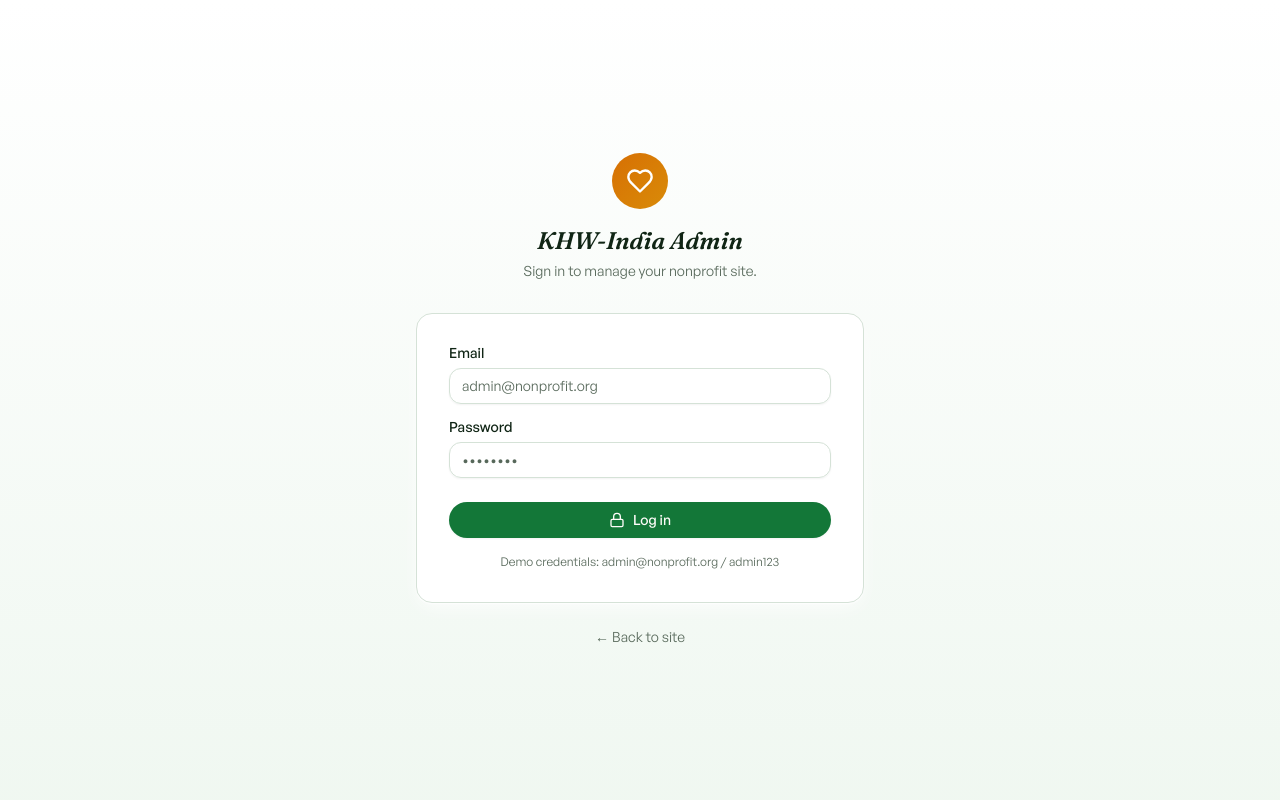
it: Admin authentication › rejects invalid credentials with an error
Type "wrong@example.com" into the field with test id "admin.login_email" at (640, 386), box [449,368,831,404]
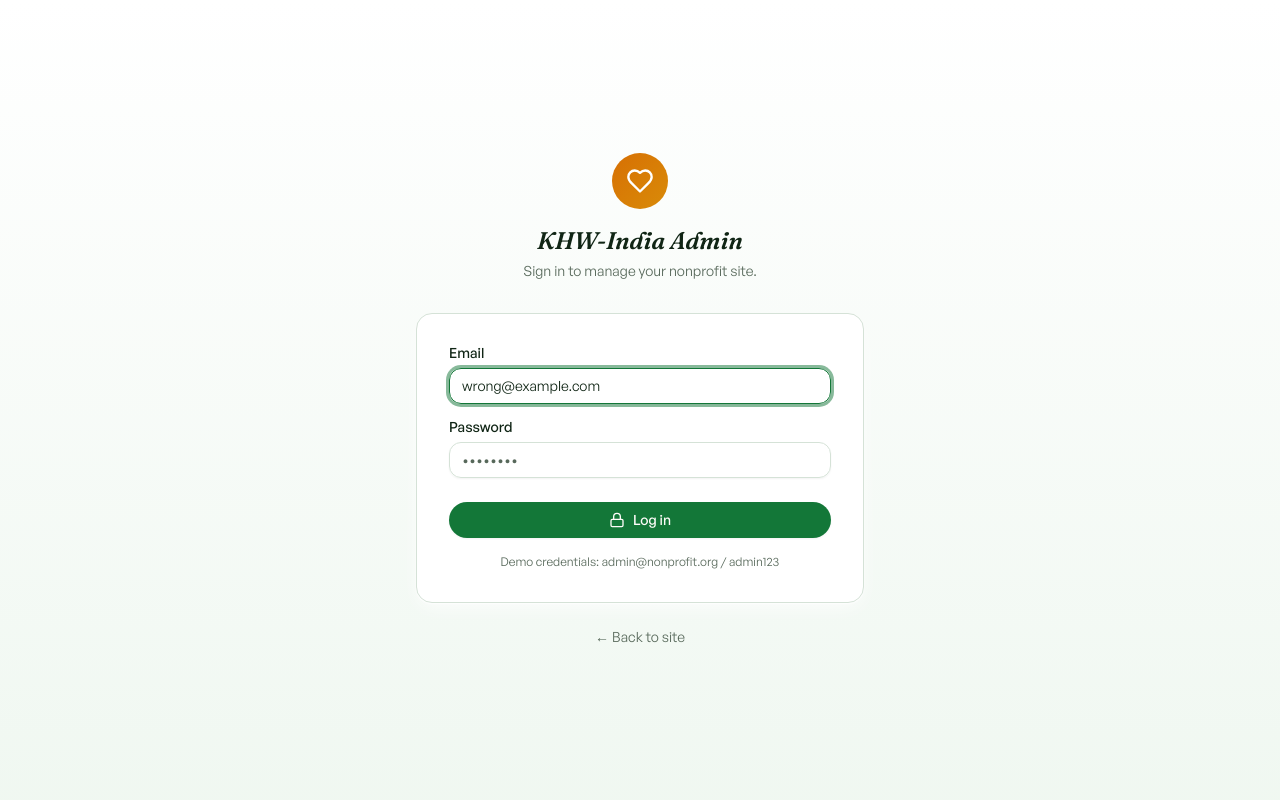
Type "nope" into the password field with test id "admin.login_password" at (640, 460), box [449,442,831,478]
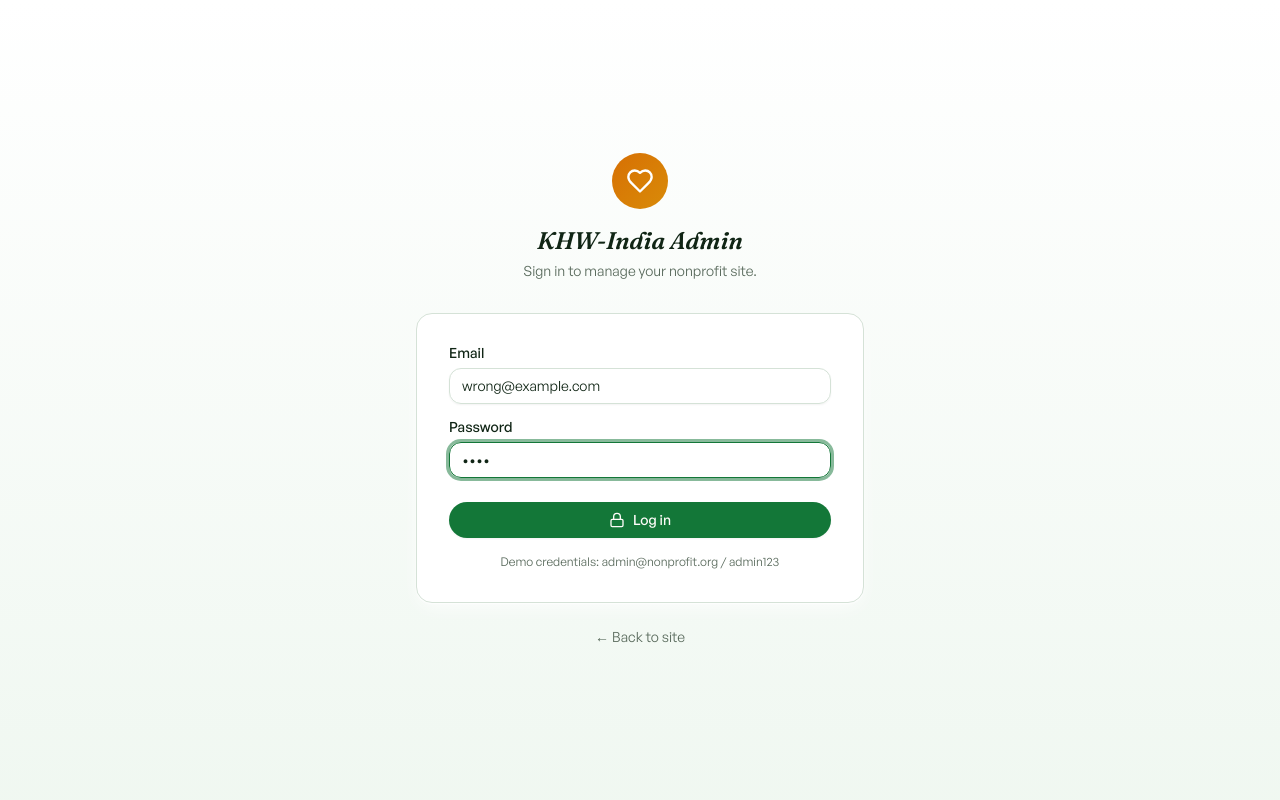
Click the button with test id "admin.login_submit" at (640, 520), box [449,502,831,538]
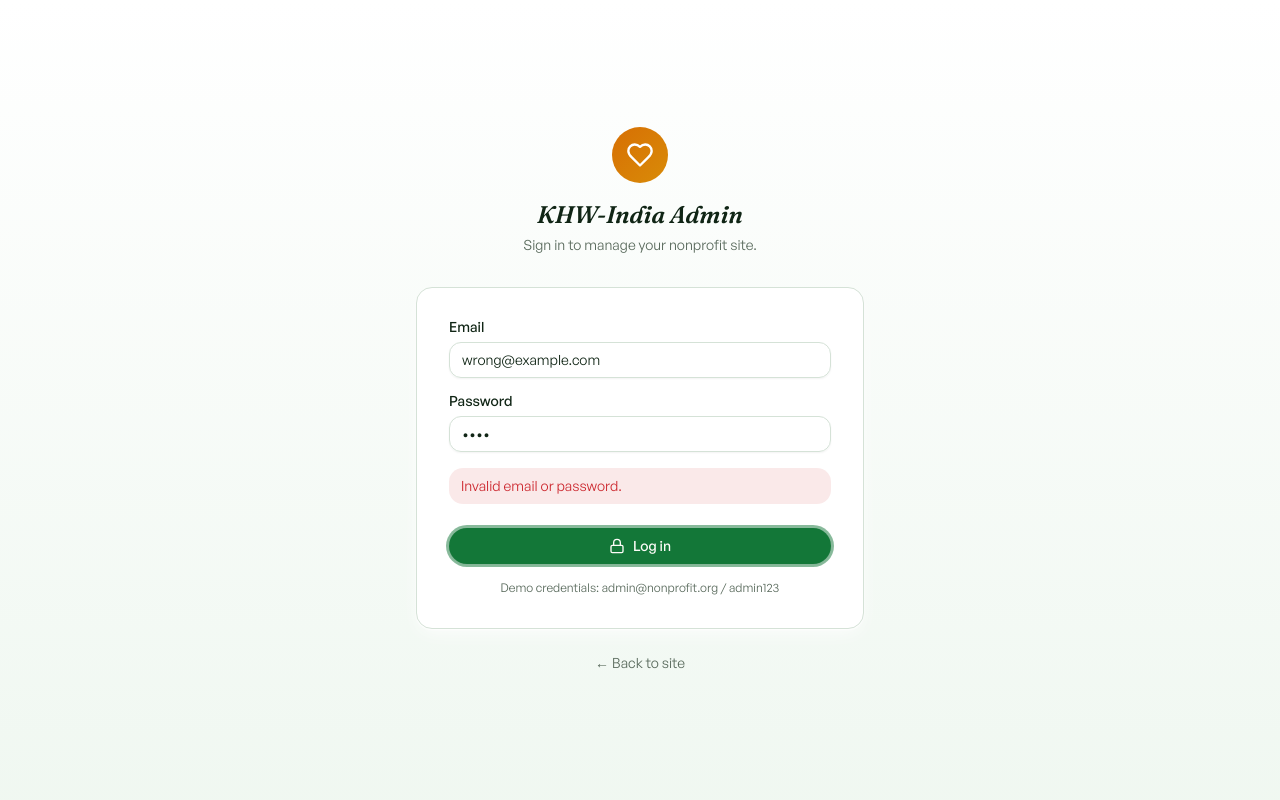
Expected: the text with test id "admin.login_error" shows "Invalid email or password", [461,477,622,494]
